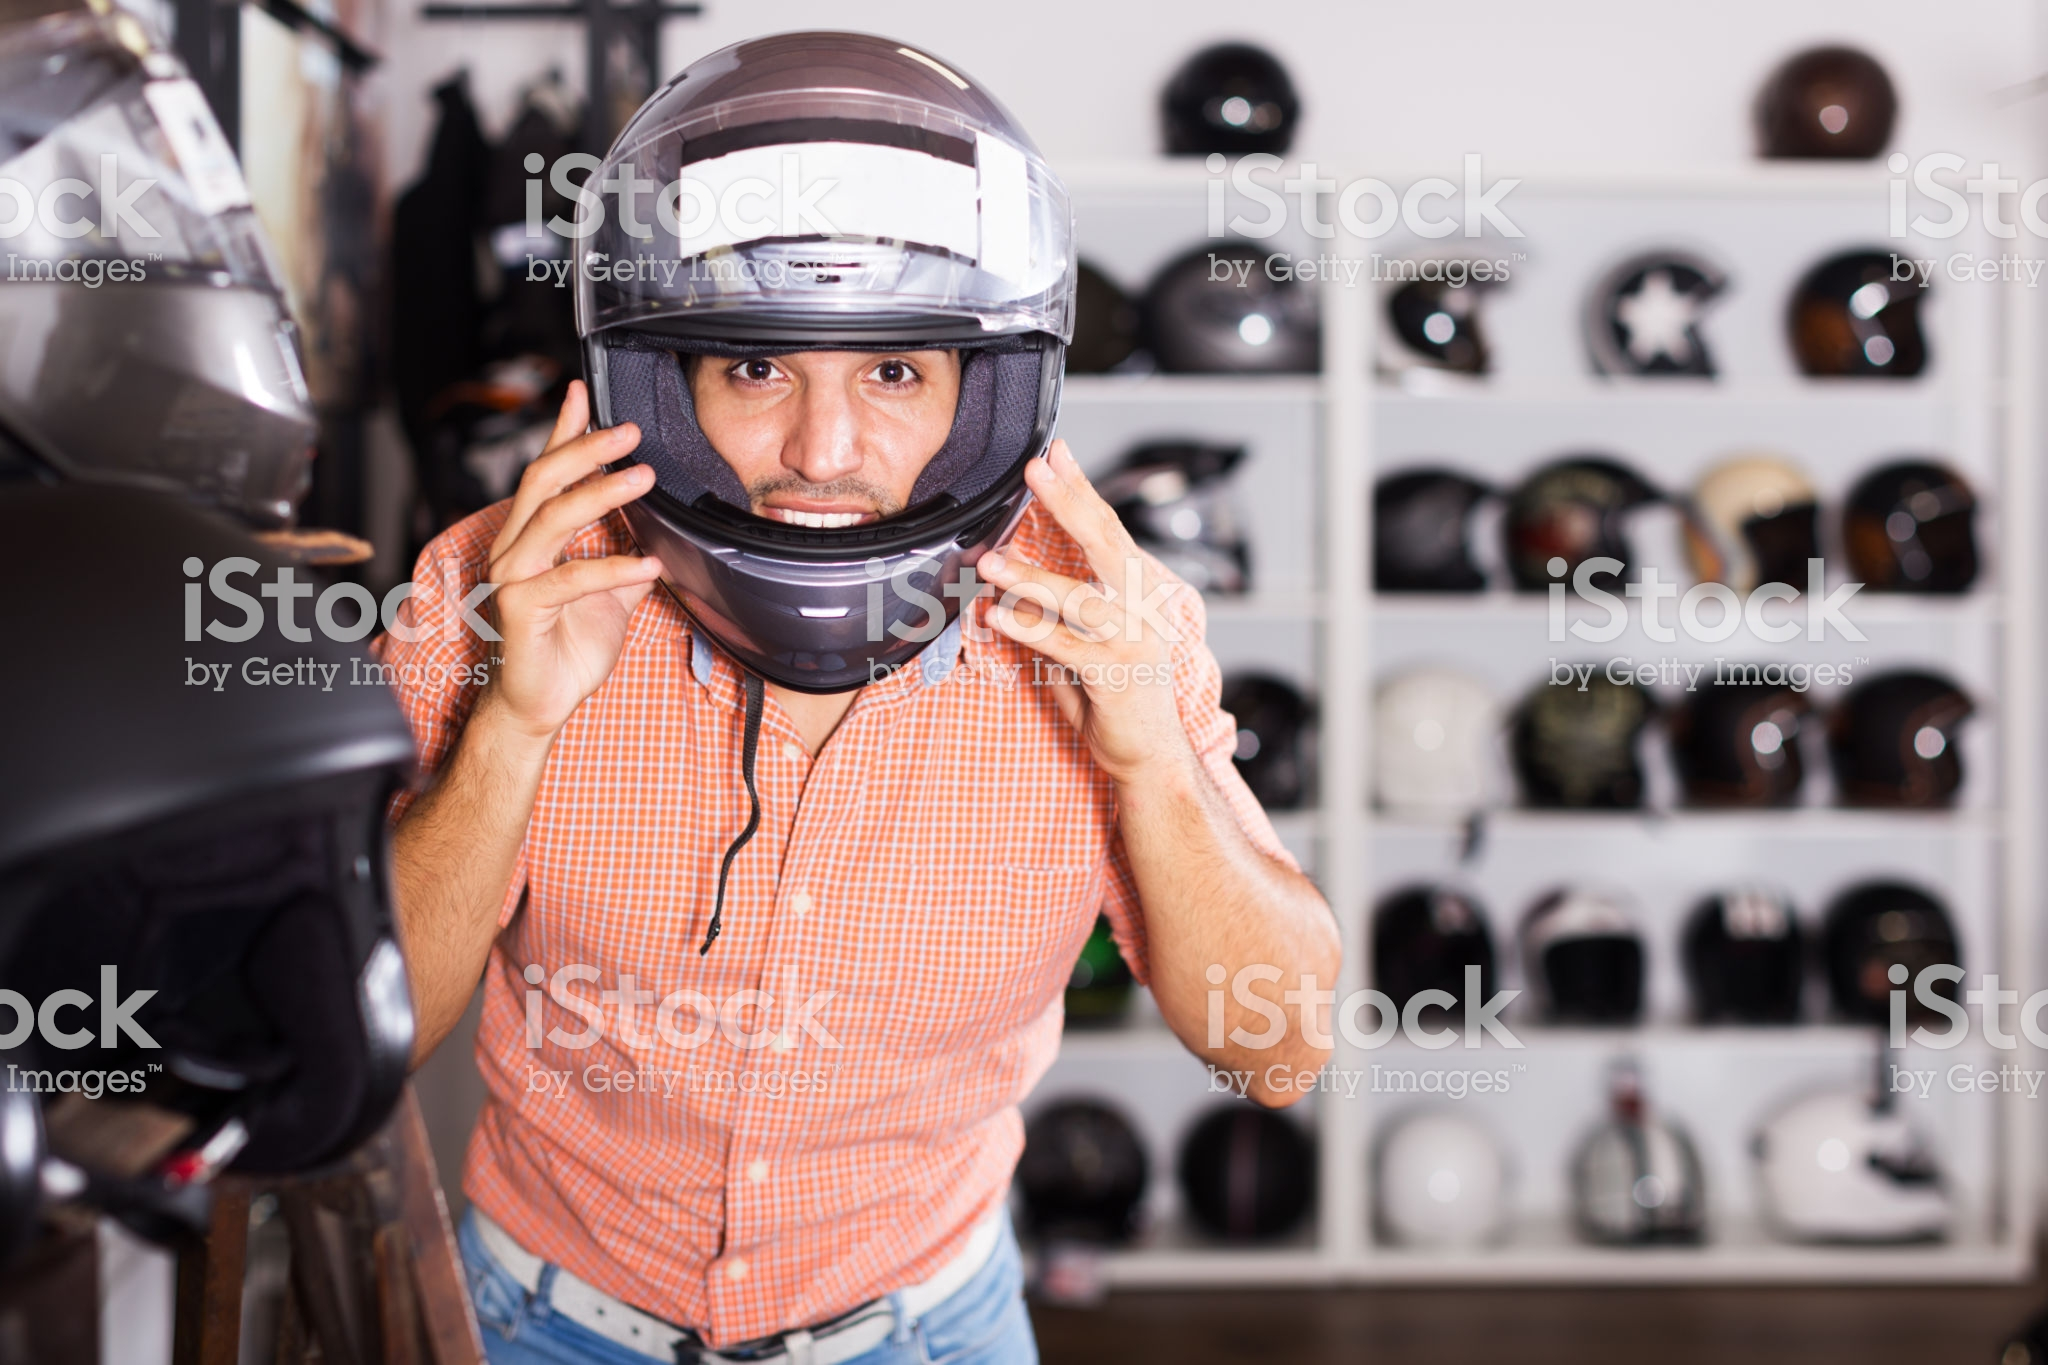helmet: (565, 30, 1105, 612)
